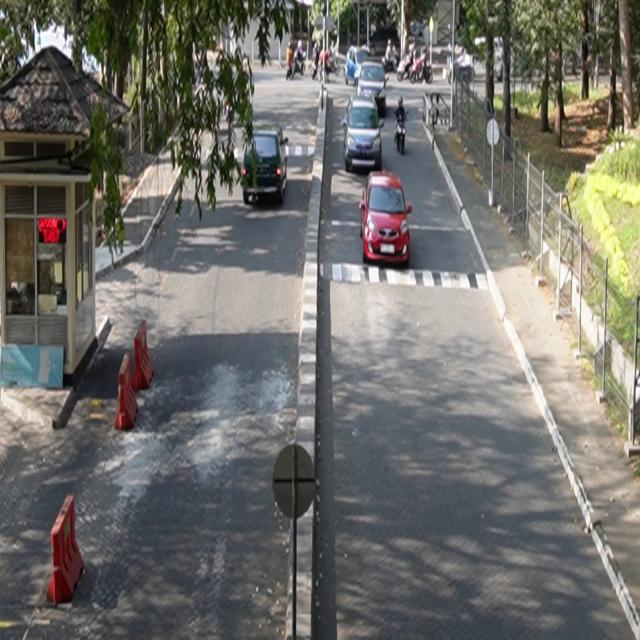car: (360, 170, 413, 267), (242, 124, 290, 207), (342, 94, 383, 173), (358, 61, 390, 116)
